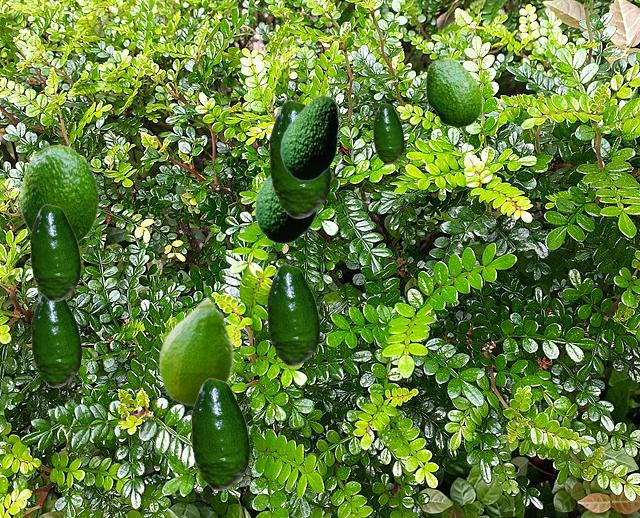avocado: (158, 295, 233, 406), (19, 144, 98, 242), (269, 100, 330, 217), (191, 378, 249, 489), (267, 264, 319, 365), (280, 94, 338, 180), (30, 204, 80, 300), (31, 295, 81, 386), (254, 174, 319, 243), (425, 57, 481, 127), (373, 103, 403, 163)
